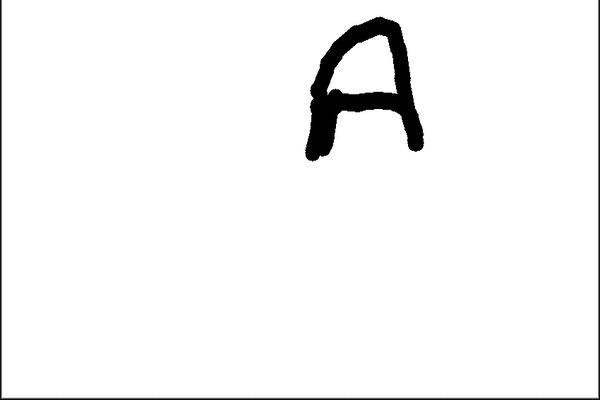A: (296, 11, 435, 179)
